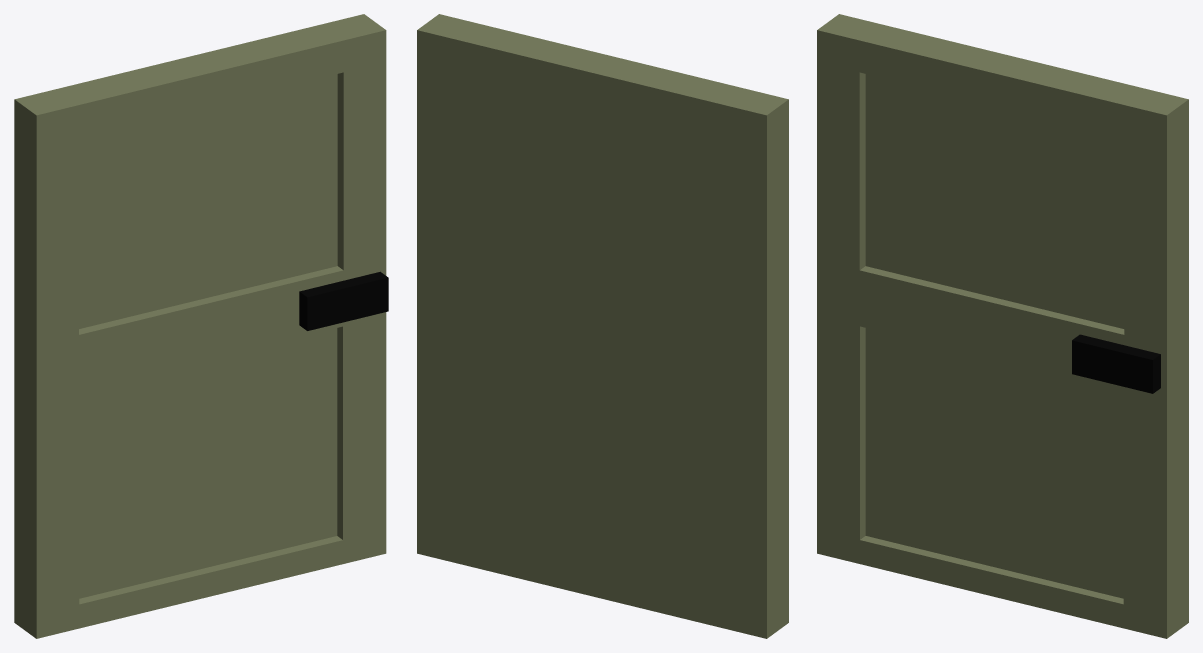
The model's file is door.fbx.
3 views of the same model, side by side, from view 1: azimuth 30°, elevation 25°; view 2: azimuth 150°, elevation 25°; view 3: azimuth 330°, elevation 25° (orthographic).
Parts seen in each view (by area): view 1: Cube.005, Cube.006; view 2: Cube.005; view 3: Cube.005, Cube.006.
Boxes of the visible parts, <box> form: Cube.005: <box>14,14,386,638</box>; Cube.006: <box>299,271,388,330</box>; Cube.005: <box>417,14,788,638</box>; Cube.005: <box>817,14,1188,638</box>; Cube.006: <box>1072,334,1160,393</box>.
Size of the model in its own units: 273 by 391 by 40.75.
